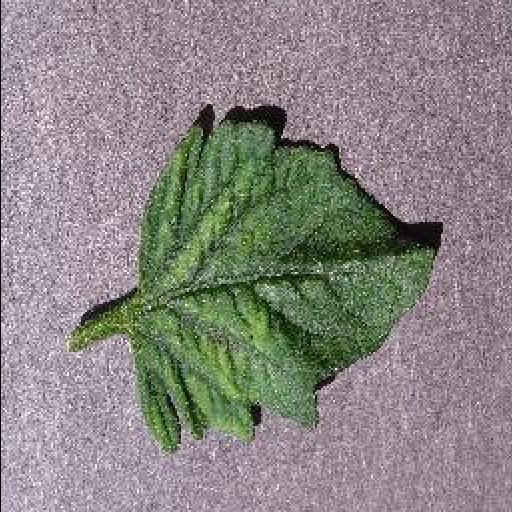Mosaic Virus: (121, 111, 437, 459)
